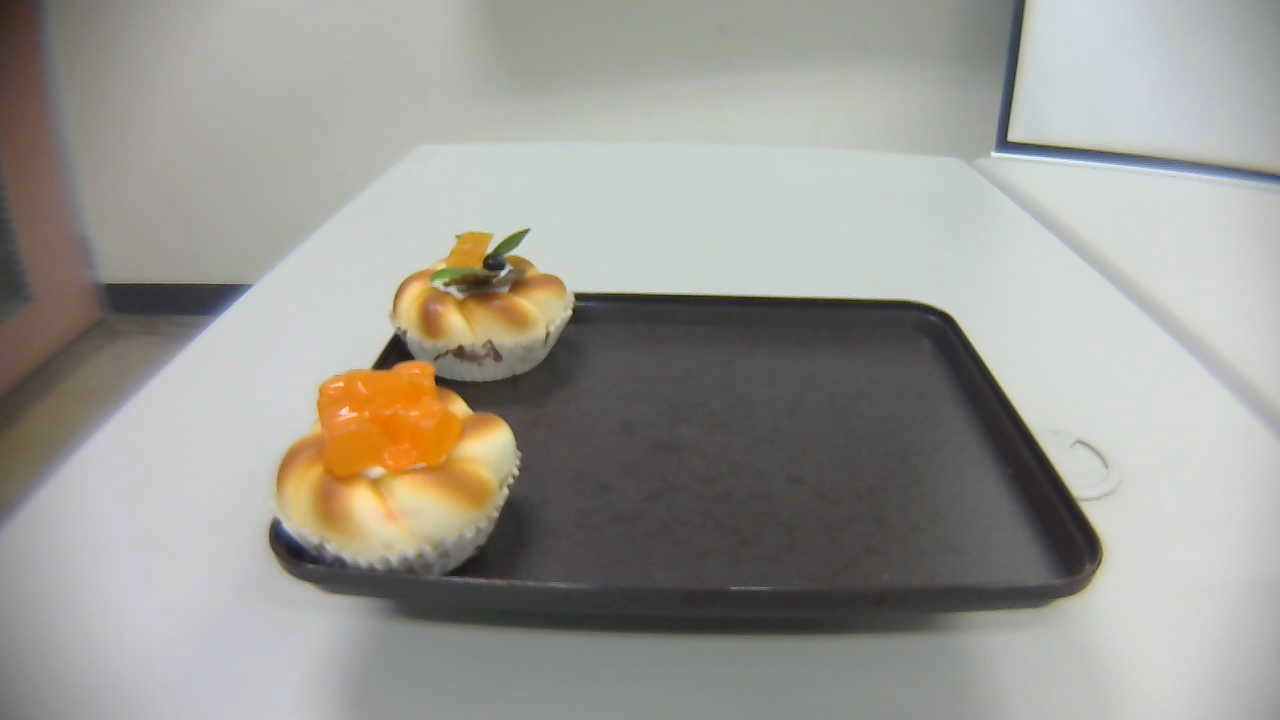fruit tart: (390, 227, 575, 380)
mango tart: (270, 361, 520, 588)
